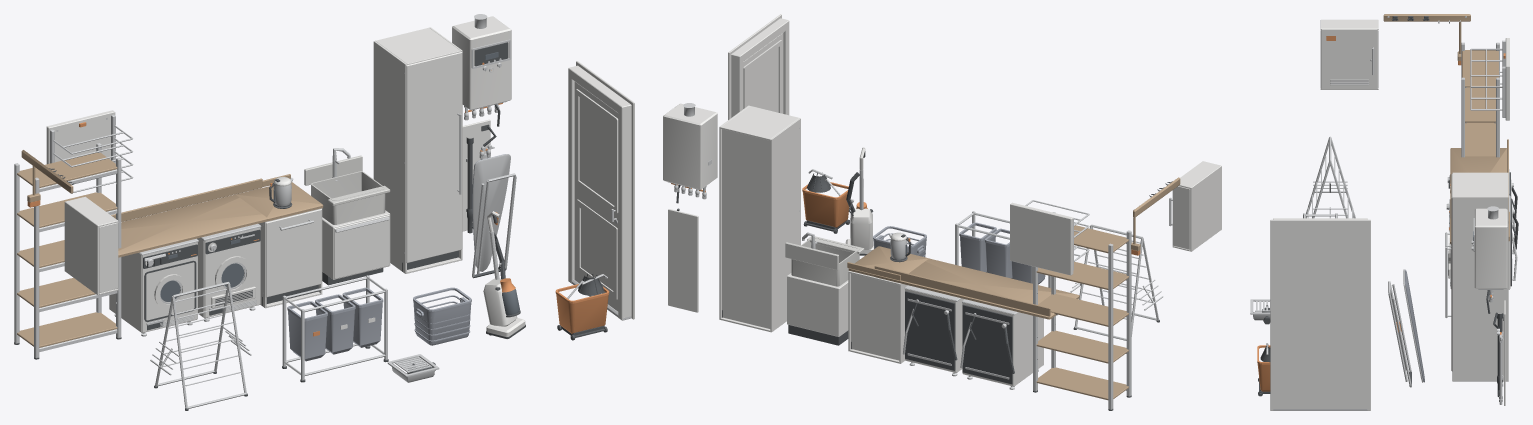
File: home-appliances-and-utility-utility-room-13be9be3-starter-scene__14182.glb
3 views of the same model, side by side, from view 1: azimuth 30°, elevation 25°; view 2: azimuth 150°, elevation 25°; view 3: azimuth 270°, elevation 25° (orthographic). The views are drawn at different scales.
Visible parts, largest first — view 1: 006-utility-broom-cupboard-600/door/carcass, 012-back-door-module/door-leaf, 006-utility-broom-cupboard-600/0, 000-utility-shelving-unit/1, 012-back-door-module/0, 004-utility-worktop-run-2m/0, 010-meter-consumer-unit-cupboard/0, 000-utility-shelving-unit/0, 013-sorting-hamper-3-bay/1, 003-utility-base-unit-600/door/carcass, 001-washing-machine-front-load/0, 005-utility-sink-unit/2 (+26 smaller); view 2: 006-utility-broom-cupboard-600/0, 000-utility-shelving-unit/1, 004-utility-worktop-run-2m/0, 003-utility-base-unit-600/0, 007-combi-boiler/0, 009-wall-drying-rack/0, 010-meter-consumer-unit-cupboard/0, 002-tumble-dryer-condenser/2, 001-washing-machine-front-load/2, 005-utility-sink-unit/0, 008-plumbing-stack-utility/0, 000-utility-shelving-unit/0 (+17 smaller); view 3: 012-back-door-module/0, 006-utility-broom-cupboard-600/0, 010-meter-consumer-unit-cupboard/door/carcass, 000-utility-shelving-unit/1, 007-combi-boiler/0, 015-floor-drying-airer/0, 004-utility-worktop-run-2m/0, 016-ironing-board-folded/0, 009-wall-drying-rack/1, 010-meter-consumer-unit-cupboard/0, 011-wall-tool-rail/0, 000-utility-shelving-unit/0 (+12 smaller).
Boxes of the visible parts, box(x1,y1,x2,y2) form: 006-utility-broom-cupboard-600/door/carcass: box(406, 52, 462, 262); 012-back-door-module/door-leaf: box(574, 81, 618, 311); 006-utility-broom-cupboard-600/0: box(373, 27, 462, 273); 000-utility-shelving-unit/1: box(17, 152, 117, 347); 012-back-door-module/0: box(568, 61, 634, 320); 004-utility-worktop-run-2m/0: box(111, 178, 267, 257); 010-meter-consumer-unit-cupboard/0: box(64, 196, 118, 295); 000-utility-shelving-unit/0: box(14, 143, 121, 358); 013-sorting-hamper-3-bay/1: box(287, 287, 383, 361); 003-utility-base-unit-600/door/carcass: box(265, 209, 322, 297); 001-washing-machine-front-load/0: box(109, 242, 197, 332); 005-utility-sink-unit/2: box(304, 155, 390, 224); 006-utility-broom-cupboard-600/0: box(719, 105, 800, 332); 000-utility-shelving-unit/1: box(1036, 225, 1128, 400); 004-utility-worktop-run-2m/0: box(874, 258, 1079, 319); 003-utility-base-unit-600/0: box(848, 271, 907, 363); 007-combi-boiler/0: box(663, 103, 717, 189); 009-wall-drying-rack/0: box(1010, 202, 1073, 275); 010-meter-consumer-unit-cupboard/0: box(1172, 161, 1221, 251); 002-tumble-dryer-condenser/2: box(905, 291, 957, 370); 001-washing-machine-front-load/2: box(962, 304, 1014, 384); 005-utility-sink-unit/0: box(787, 273, 848, 336); 008-plumbing-stack-utility/0: box(668, 209, 698, 312); 000-utility-shelving-unit/0: box(1033, 212, 1131, 409); 012-back-door-module/0: box(1270, 218, 1370, 410); 006-utility-broom-cupboard-600/0: box(1452, 172, 1508, 381); 010-meter-consumer-unit-cupboard/door/carcass: box(1321, 29, 1377, 89); 000-utility-shelving-unit/1: box(1462, 50, 1498, 156); 007-combi-boiler/0: box(1474, 208, 1507, 288); 015-floor-drying-airer/0: box(1306, 136, 1355, 218); 004-utility-worktop-run-2m/0: box(1450, 139, 1508, 223); 016-ironing-board-folded/0: box(1388, 269, 1423, 386); 009-wall-drying-rack/1: box(1470, 40, 1505, 117); 010-meter-consumer-unit-cupboard/0: box(1320, 19, 1378, 89); 011-wall-tool-rail/0: box(1383, 14, 1470, 60); 000-utility-shelving-unit/0: box(1461, 42, 1499, 157).
Bounding box in the file's own units: 5.33 × 2.17 × 2.77.
